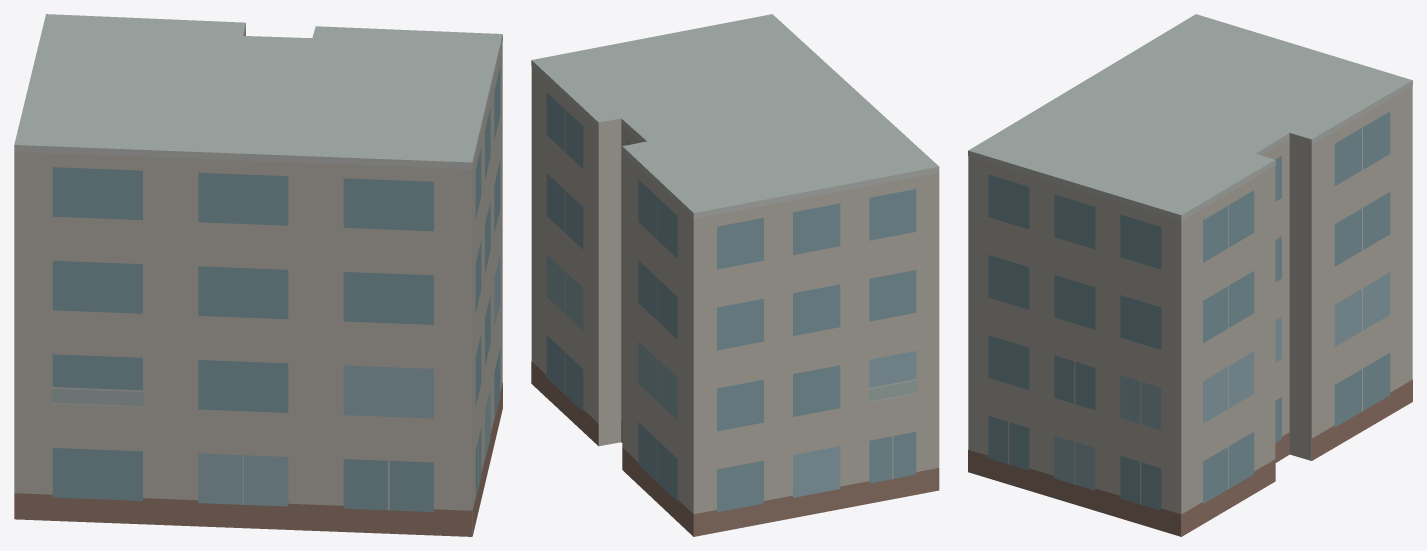
The model's file is survey-upis-32832213.glb.
3 renders of one model, left to right at view 1: azimuth 30°, elevation 25°; view 2: azimuth 150°, elevation 25°; view 3: azimuth 270°, elevation 25°, orthographic. The views are drawn at different scales.
Visible parts, largest first — view 1: survey-upis-32832213.tmp; view 2: survey-upis-32832213.tmp; view 3: survey-upis-32832213.tmp.
Part boxes in pixels (x1,y1,x2,y2): survey-upis-32832213.tmp: [14, 14, 502, 536]; survey-upis-32832213.tmp: [531, 14, 939, 536]; survey-upis-32832213.tmp: [968, 14, 1412, 536].
Bounding box in the file's own units: 17.86 × 13.3 × 16.67.
